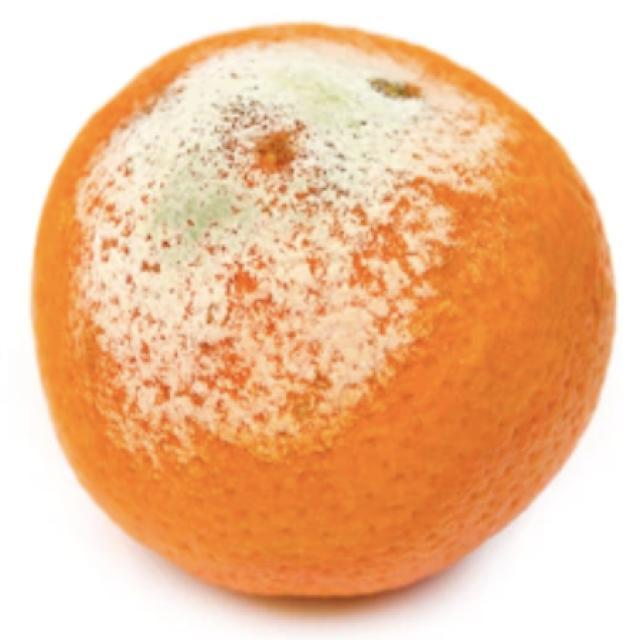sedikit-busuk: (33, 25, 613, 595)
